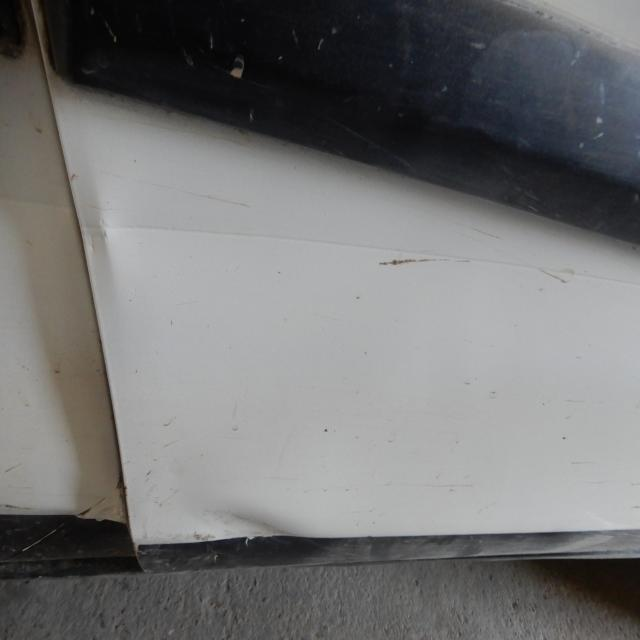damage: (200, 499, 326, 562), (92, 202, 122, 277)
